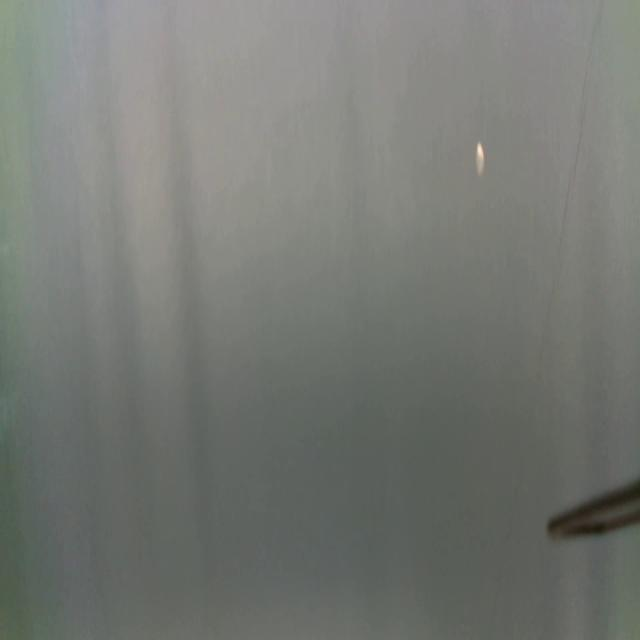crease: (531, 5, 607, 395)
hole: (473, 139, 486, 181)
